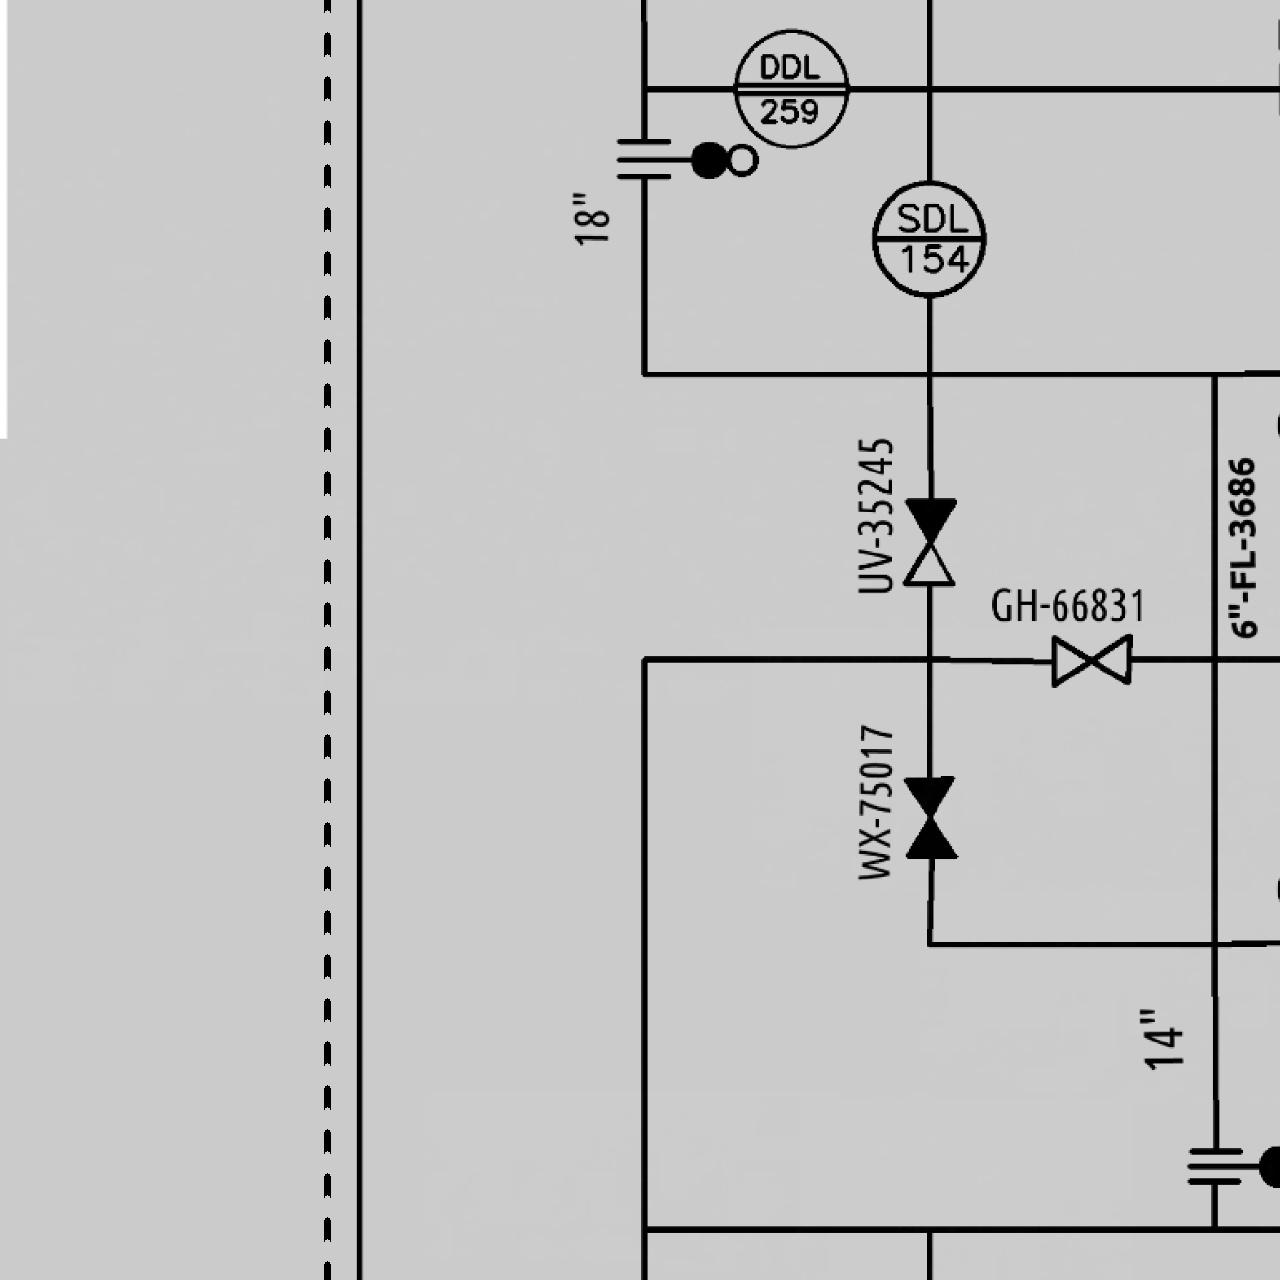Control-Panel: (726, 23, 855, 152)
Half closed valve: (898, 493, 960, 588)
